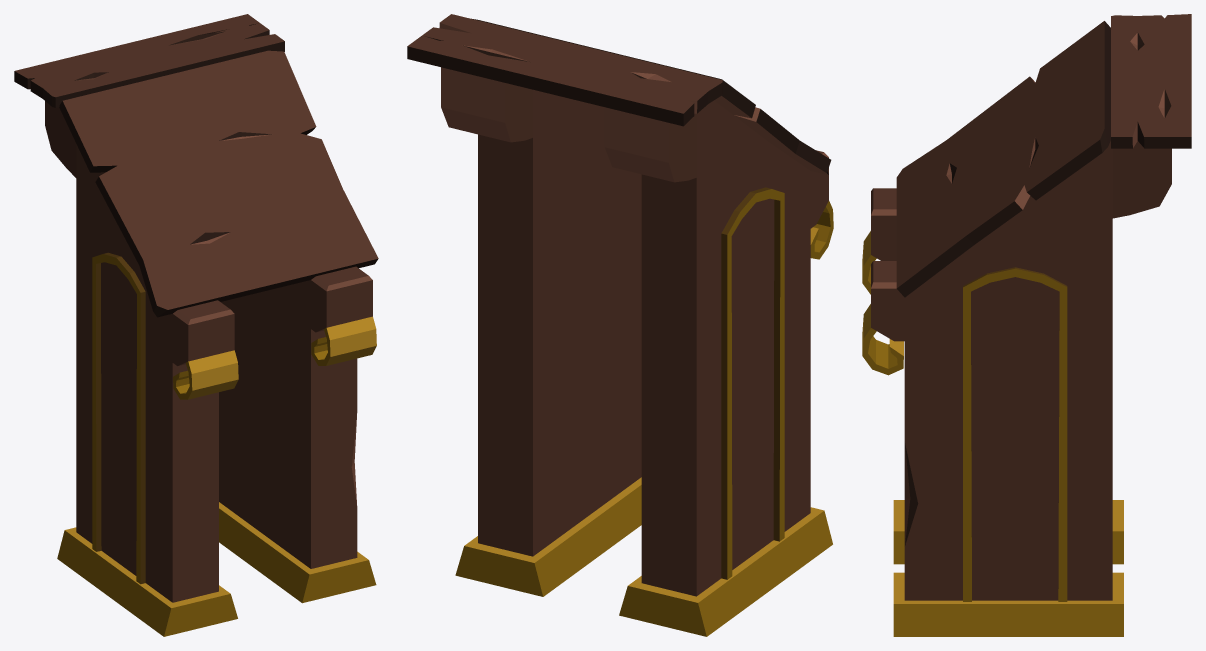
File: PapyrusDesk_01.glb
The picture shows the model from 3 angles, left to right: view 1: azimuth 30°, elevation 25°; view 2: azimuth 150°, elevation 25°; view 3: azimuth 270°, elevation 25°; orthographic projection. The views are drawn at different scales.
Visible parts, largest first — view 1: PapyrusDesk_01; view 2: PapyrusDesk_01; view 3: PapyrusDesk_01.
Boxes of the visible parts, left/top/right/bottom form: PapyrusDesk_01: left=14, top=14, right=378, bottom=636; PapyrusDesk_01: left=407, top=14, right=833, bottom=636; PapyrusDesk_01: left=862, top=14, right=1191, bottom=636.
Size of what is drawn, in the model's own units: 0.6602 by 1.26 by 0.7464.
1 material, 1 textured.
